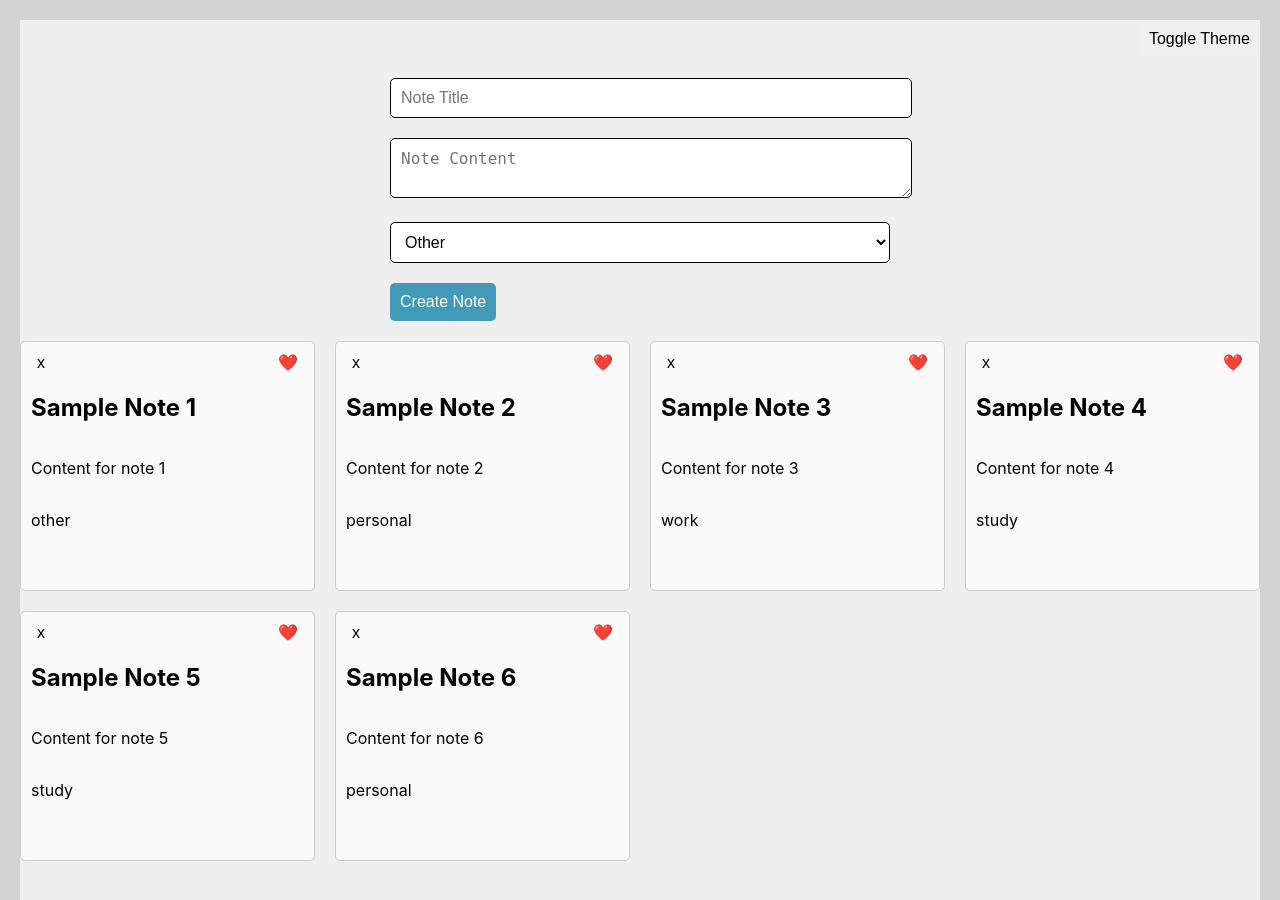
Test case: StickyNotes Component › deletes a note
The image size is (1280, 900).
Expected: the text "Sample Note 2" is shown, x1=346 y1=393 x2=516 y2=422
Click the 2nd button "x".
click(356, 362)  # box x1=346 y1=352 x2=366 y2=373
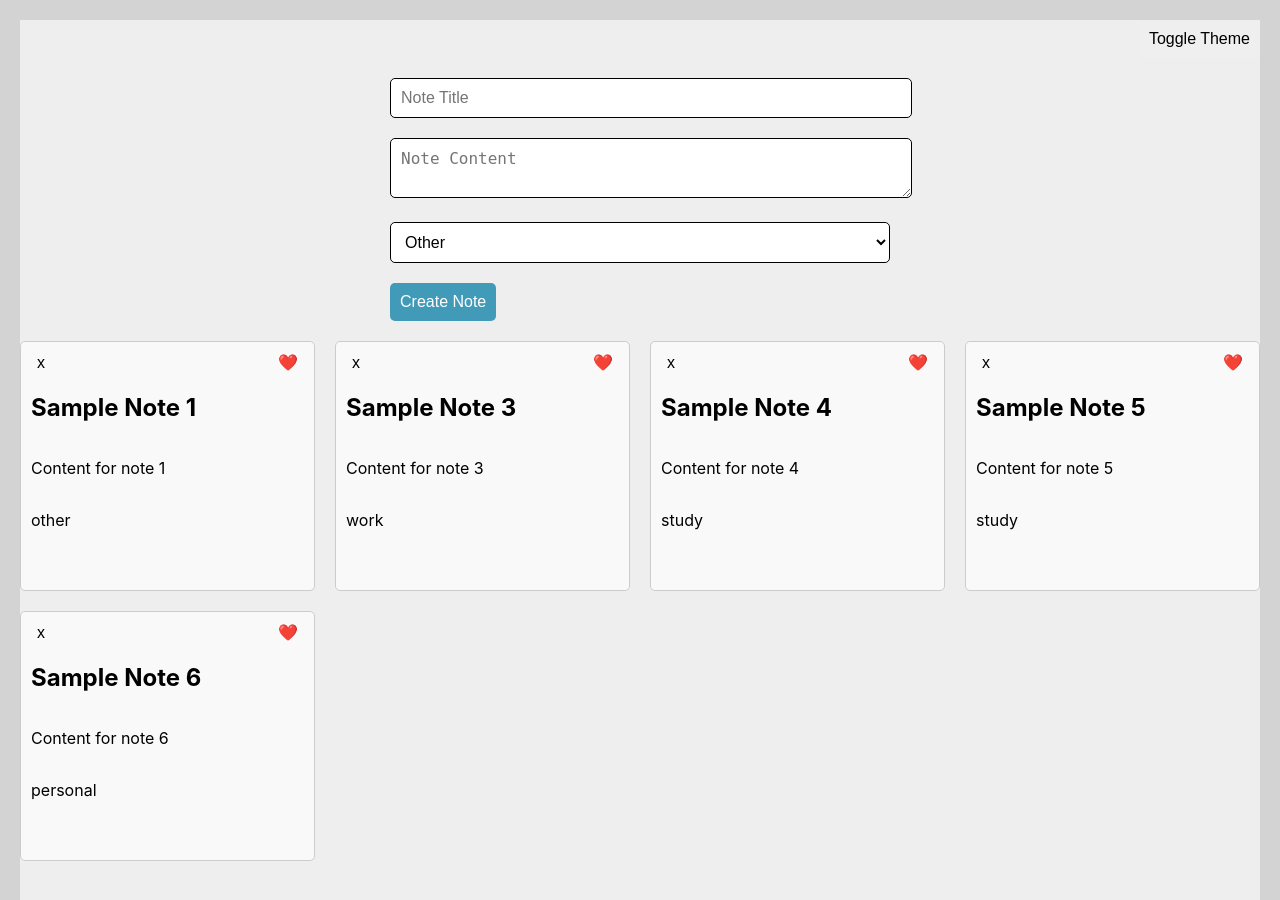
Now the heading "Sample Note 2" is gone
